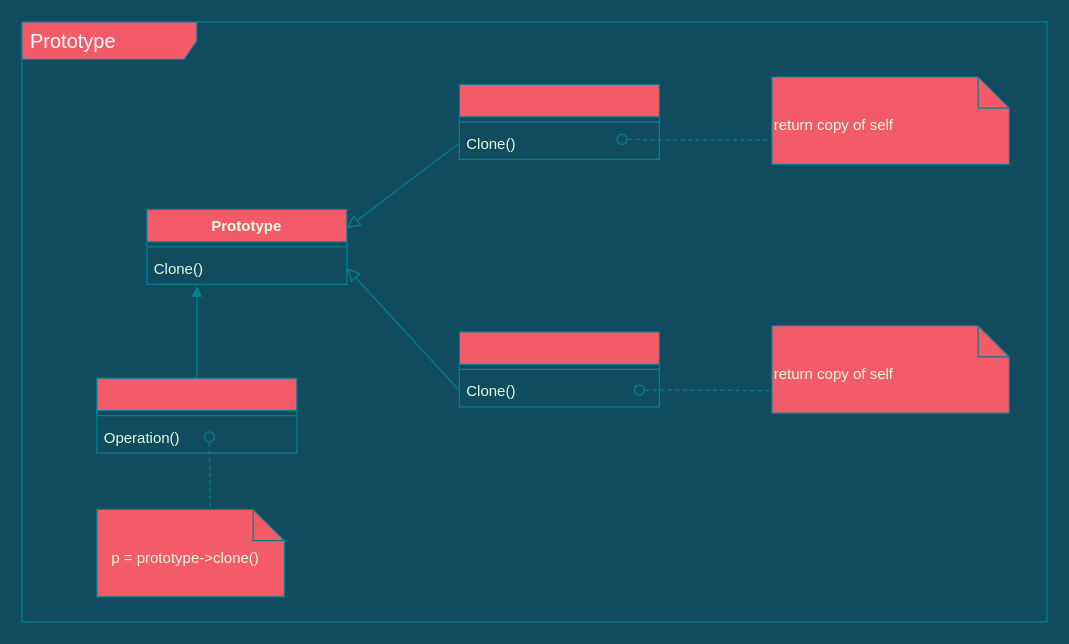
Image size: 1069x644. Some labels were removed from this diagram. The shapes that lost their labels are listed below. From the top down, each one's box as (x1, y1, x2, y2) in pixels, then its label:
(458, 83, 659, 159): ConcretePrototype1
(458, 331, 659, 407): ConcretePrototype2
(96, 377, 297, 453): Client
